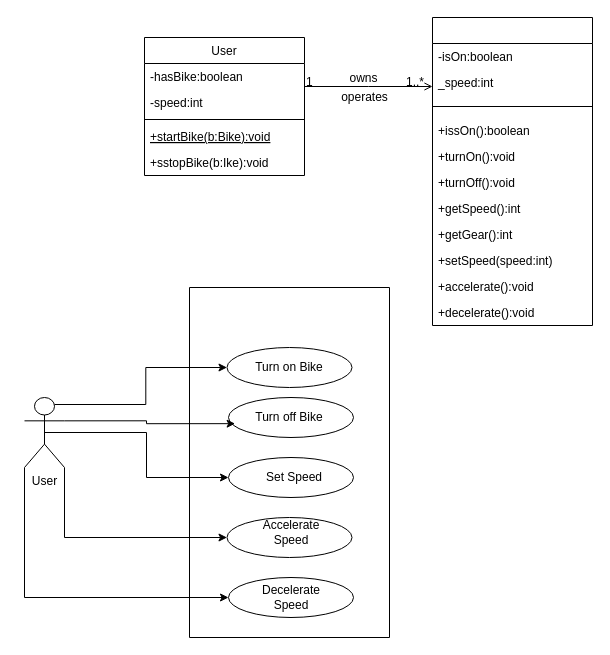
Image size: 610x655. Some labels were removed from this diagram. The box of each missing label's shape, as (x1, y1, x2, y2) in pixels:
Bike: (432, 16, 592, 326)
Bike System: (188, 286, 390, 638)
